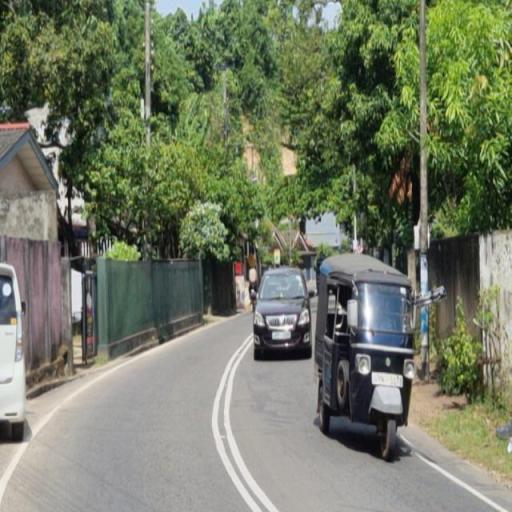double_white_line: (210, 332, 277, 512)
